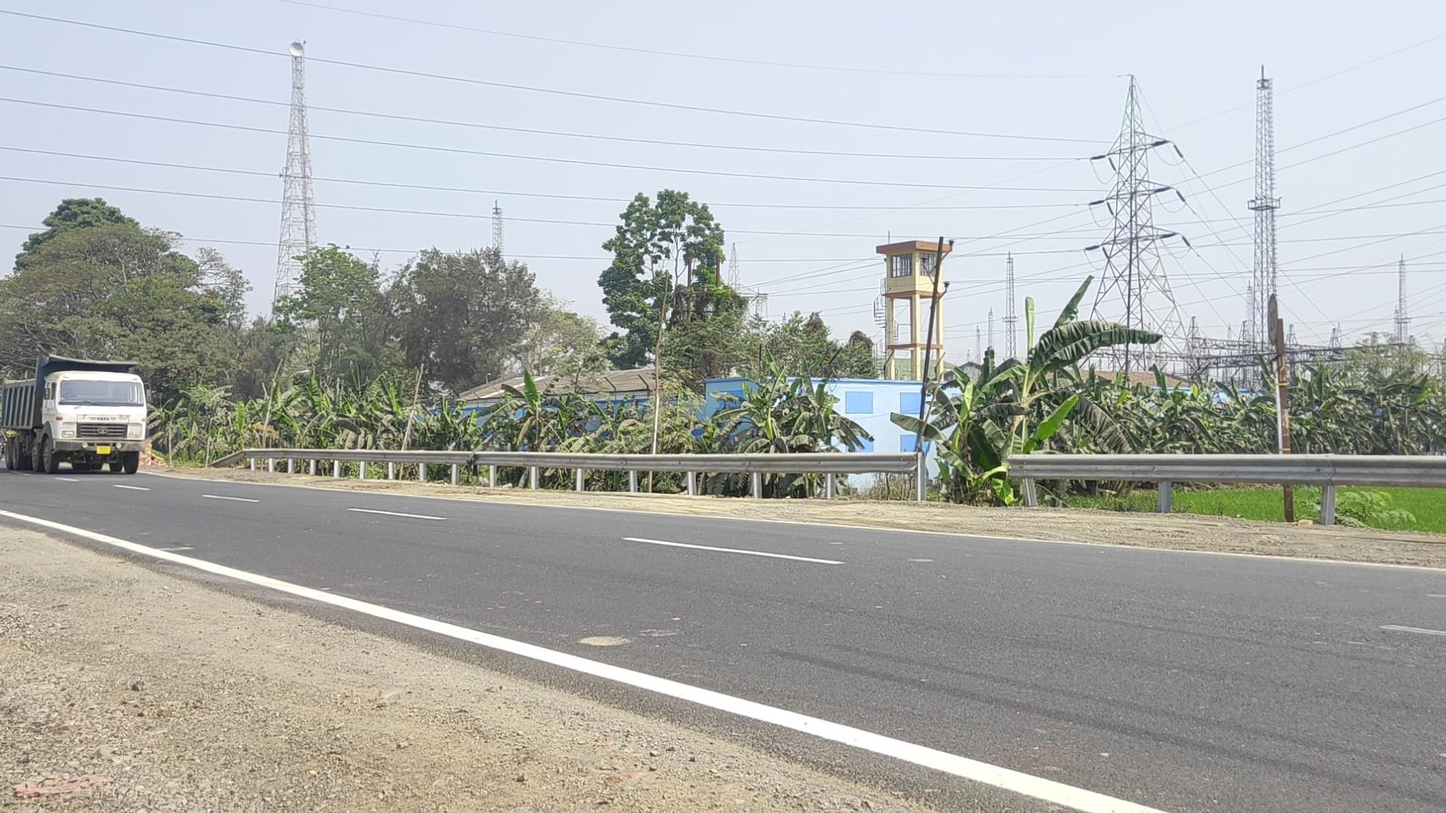truck: (1, 353, 151, 475)
